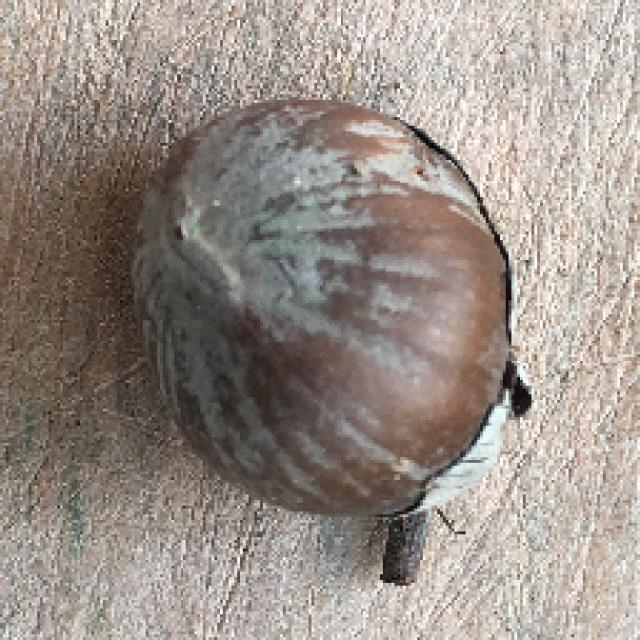damagedHazelnut: (130, 97, 528, 585)
